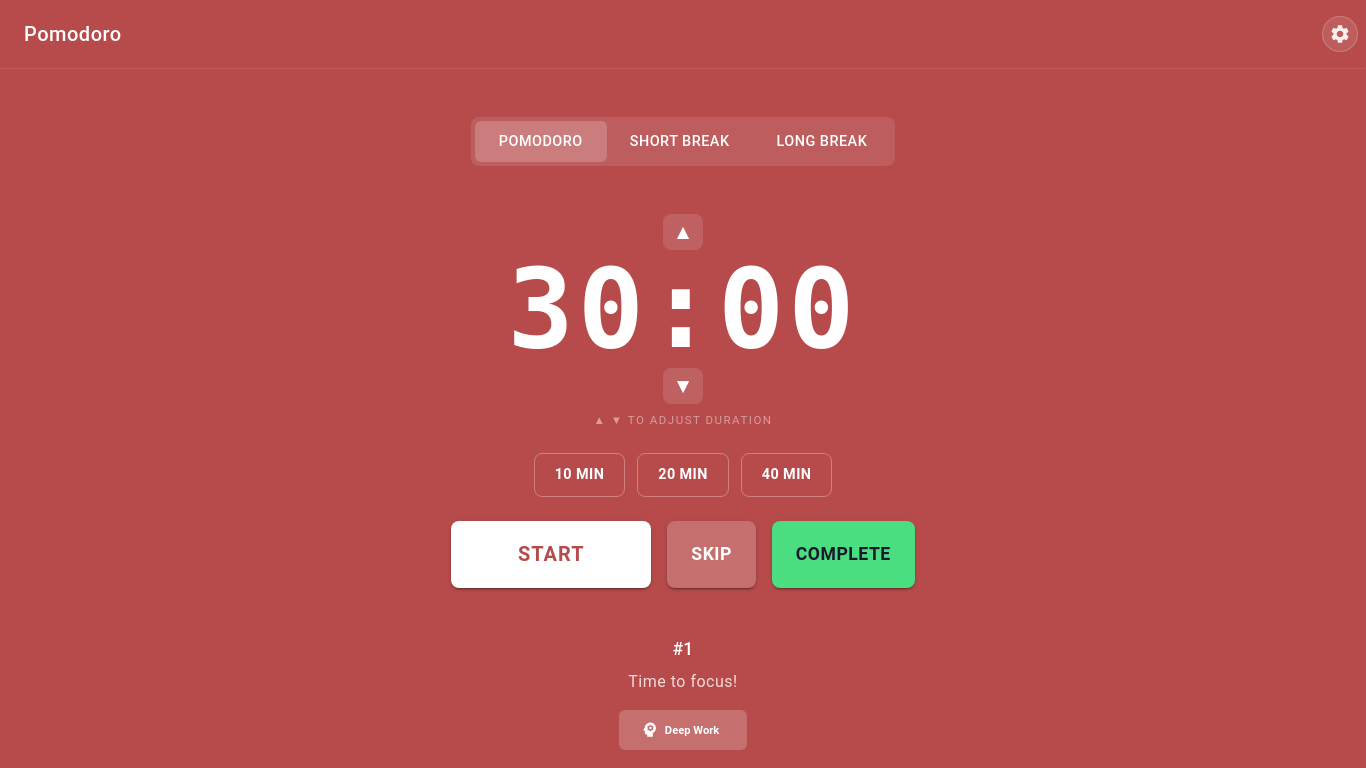
Scenario: PomodoroPanel Component › opens settings and renders inputs
Note: Use the aria-label we added
Click the button named "Settings". click: (1340, 34)
box: [1322,16,1358,52]
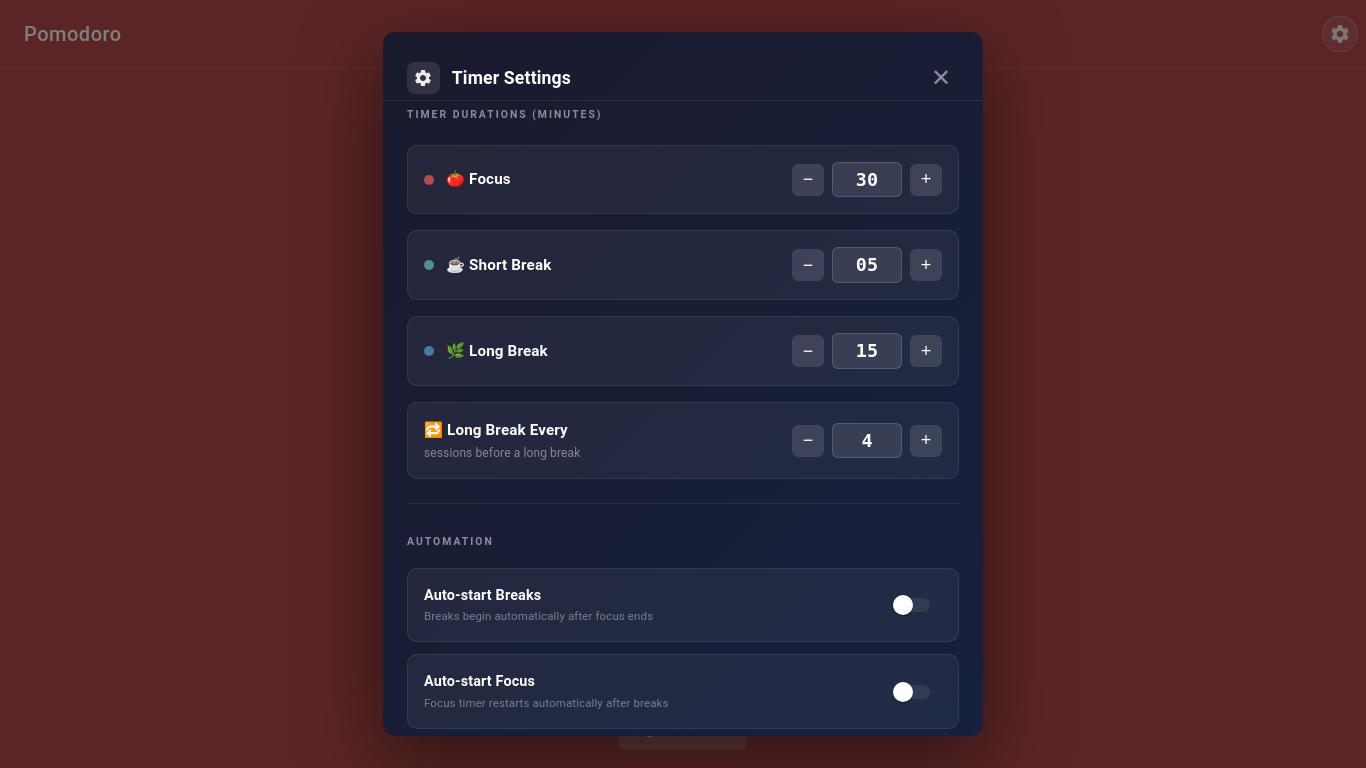
expect the text "Timer Settings" is shown: met, box [452,65,571,91]
expect the text "🍅 Focus" is shown: met, box [446,168,511,191]
expect the text "Auto-start Breaks" is shown: met, box [424,587,541,604]
